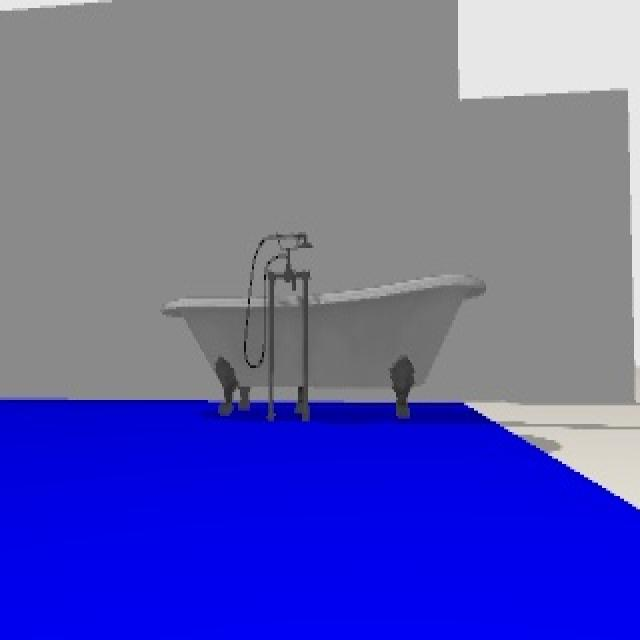bathtub: (162, 232, 488, 421)
